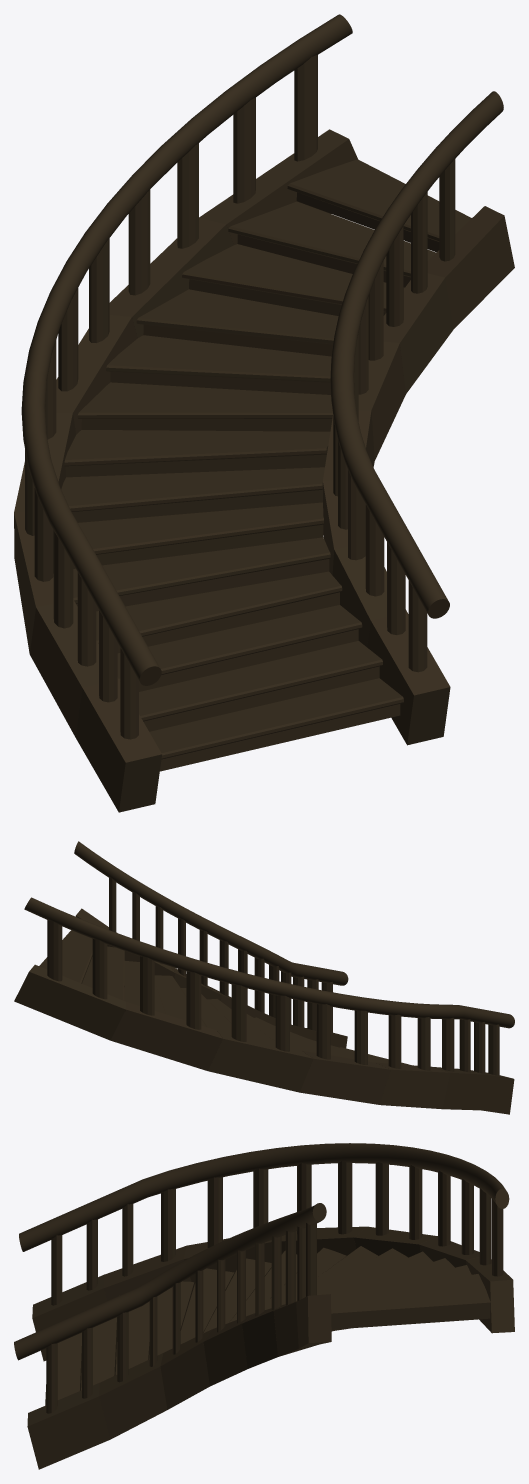
The model's file is NewFoyerStairs.fbx.
The picture shows the model from 3 angles, top to bottom: view 1: azimuth 30°, elevation 25°; view 2: azimuth 150°, elevation 25°; view 3: azimuth 270°, elevation 25°; orthographic projection. The views are drawn at different scales.
Parts seen in each view (by area): view 1: pCylinder30; view 2: pCylinder30; view 3: pCylinder30.
Part boxes in pixels (x1,y1,x2,y2): pCylinder30: (14,14,514,812); pCylinder30: (14,841,514,1114); pCylinder30: (14,1143,514,1469).
Size of the model in its own units: 123 by 94.65 by 121.
